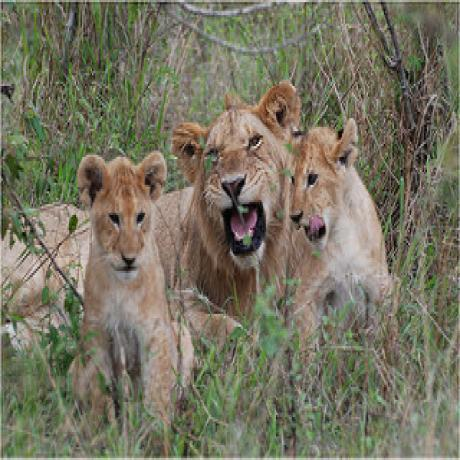Lion: (1, 83, 301, 350), (76, 152, 180, 418), (287, 119, 393, 331)
